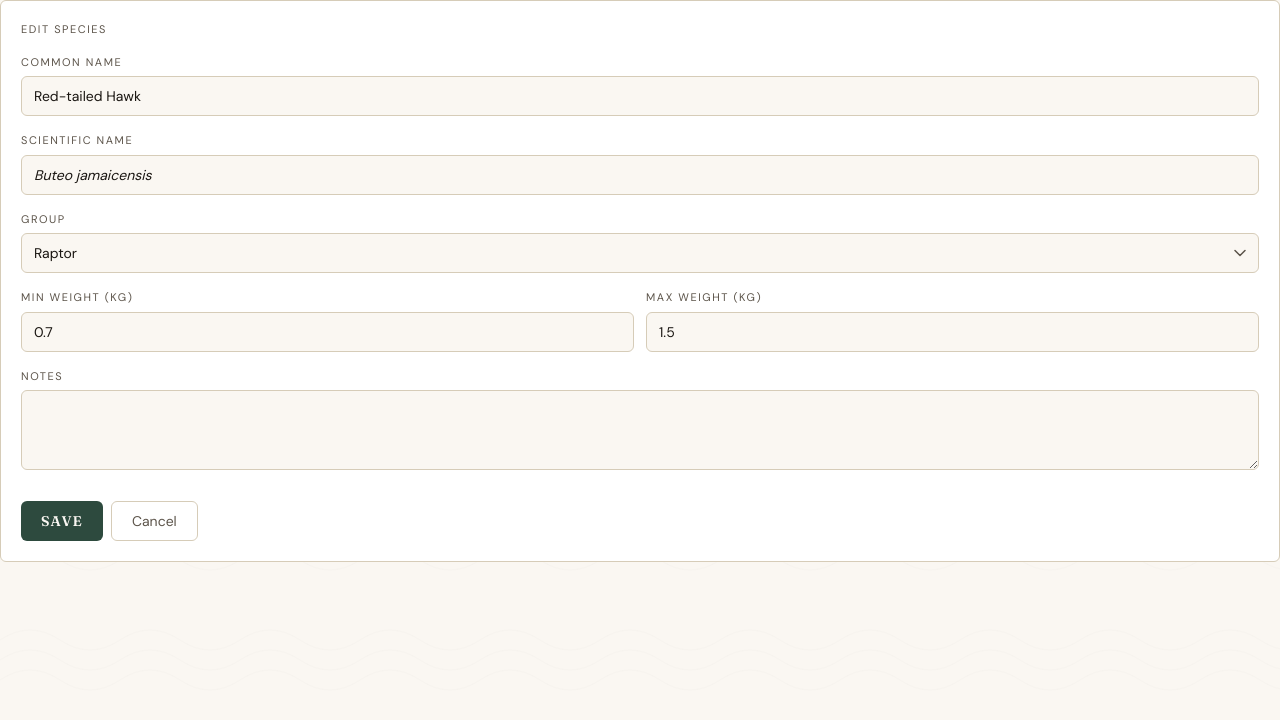
Scenario: SpeciesEditor › shows what a group change does to doses before saving
Expected: the text "moving red-tailed hawk" is not shown
Select "Songbird" in the dropdown labelled "Group" at (640, 253), box left=21, top=233, right=1259, bottom=273
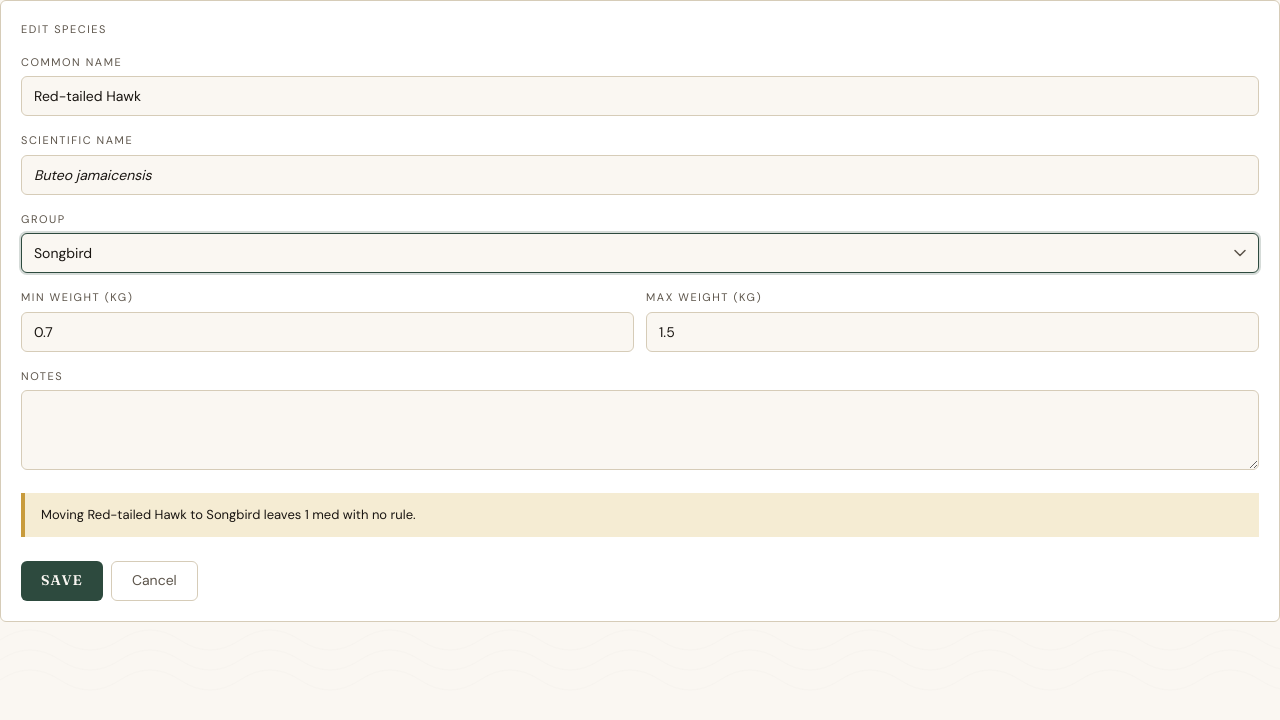
Expected: the text "Moving Red-tailed Hawk to Songbird leaves 1 med with no rule." is shown, left=21, top=493, right=1259, bottom=536
